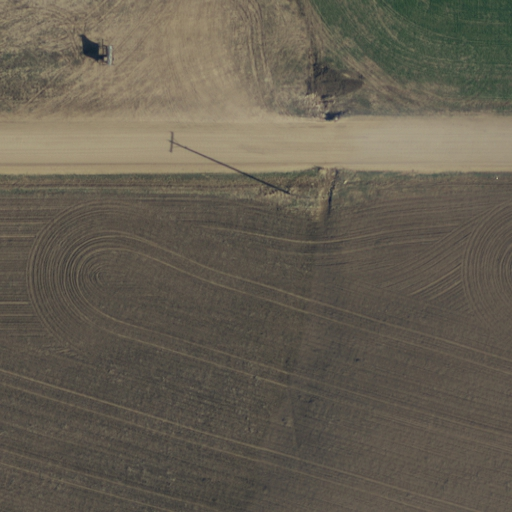DT: (277, 179, 313, 212)
